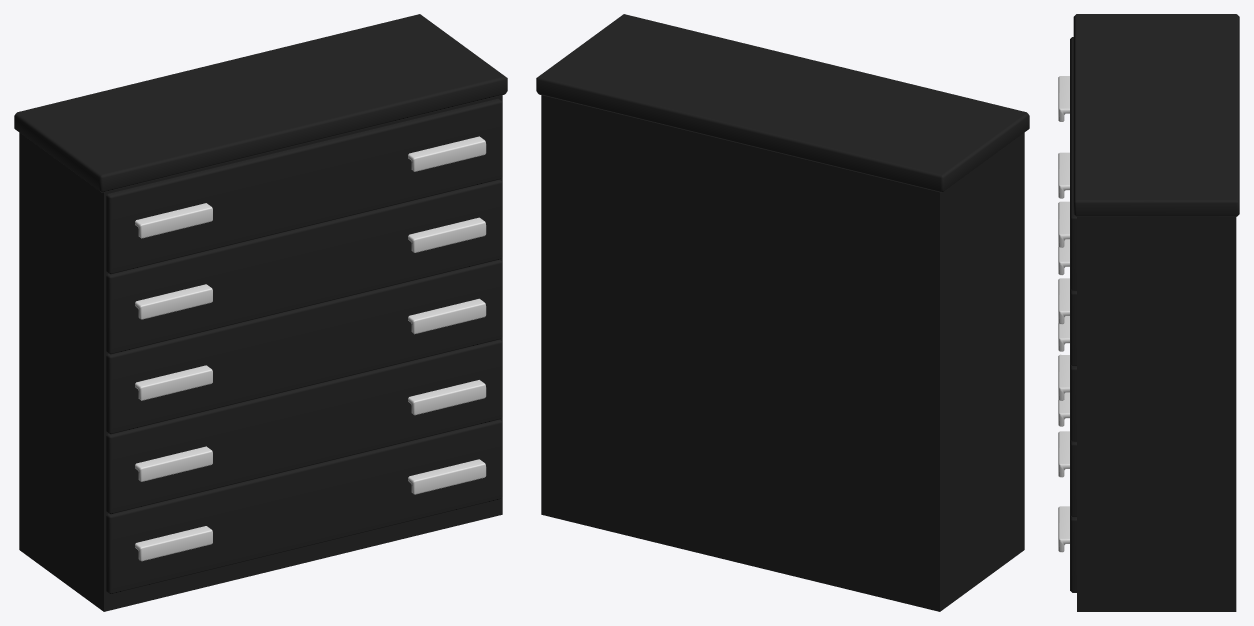
File: dresser_030.fbx
3 renders of one model, left to right at view 1: azimuth 30°, elevation 25°; view 2: azimuth 150°, elevation 25°; view 3: azimuth 270°, elevation 25°, orthographic. The views are drawn at different scales.
Parts seen in each view (by area): view 1: dresser_030; view 2: dresser_030; view 3: dresser_030.
Part boxes in pixels (x1,y1,x2,y2): dresser_030: [14, 14, 507, 611]; dresser_030: [536, 14, 1029, 611]; dresser_030: [1058, 14, 1239, 611].
Bounding box in the file's own units: 123 × 49.98 × 126.
